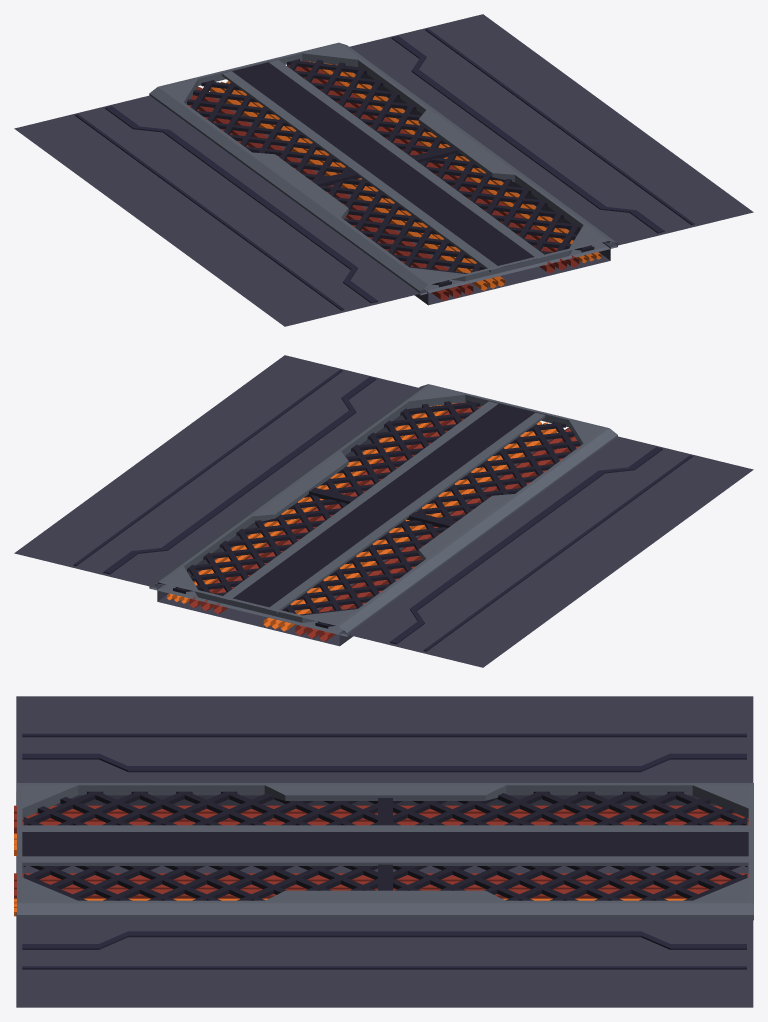
Rendered from groundWireA.fbx.
3 views of the same model, one above another, from view 1: azimuth 30°, elevation 25°; view 2: azimuth 150°, elevation 25°; view 3: azimuth 270°, elevation 25° (orthographic). The views are drawn at different scales.
Visible parts, largest first — view 1: groundWireA; view 2: groundWireA; view 3: groundWireA.
Boxes of the visible parts, x1,y1,x2,y2 form: groundWireA: (14,14,753,326); groundWireA: (14,355,753,667); groundWireA: (14,696,753,1007).
Size of the model in its own units: 400 by 16.36 by 402.
